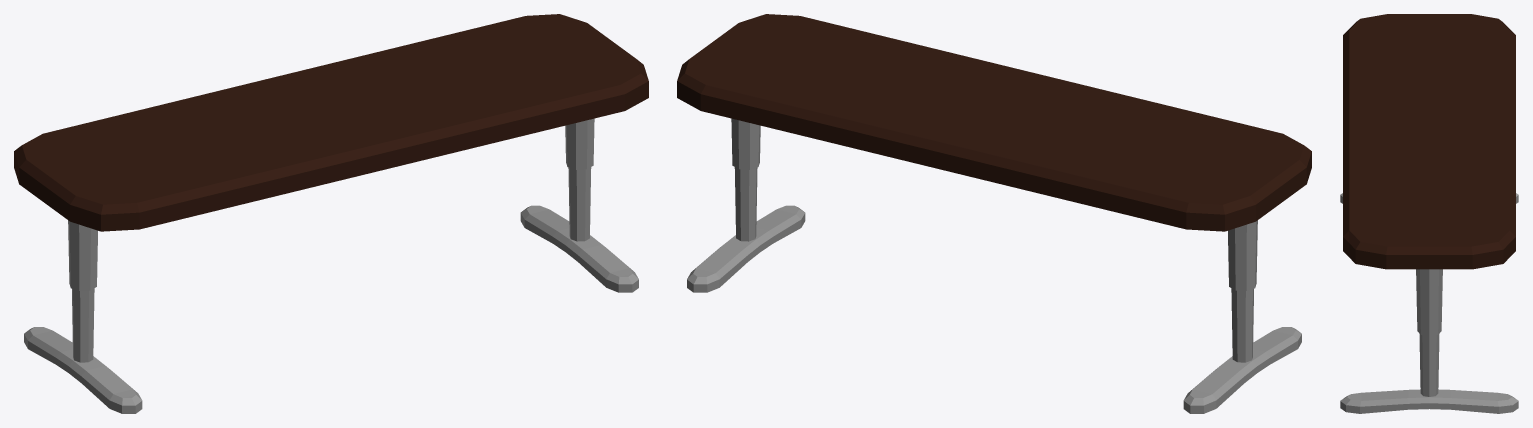
The model's file is mesh_table_b_01.fbx.
3 views of the same model, side by side, from view 1: azimuth 30°, elevation 25°; view 2: azimuth 150°, elevation 25°; view 3: azimuth 270°, elevation 25° (orthographic). The views are drawn at different scales.
Parts seen in each view (by area): view 1: mesh_table_b_01, mesh_table_b_02; view 2: mesh_table_b_01, mesh_table_b_02; view 3: mesh_table_b_01, mesh_table_b_02.
Boxes of the visible parts, box(x1,y1,x2,y2) form: mesh_table_b_01: box(14, 14, 648, 231); mesh_table_b_02: box(24, 118, 638, 413); mesh_table_b_01: box(677, 14, 1311, 231); mesh_table_b_02: box(687, 118, 1301, 413); mesh_table_b_01: box(1343, 14, 1515, 269); mesh_table_b_02: box(1340, 193, 1518, 413).
Size of the model in its own units: 27.75 by 9.5 by 8.81.
